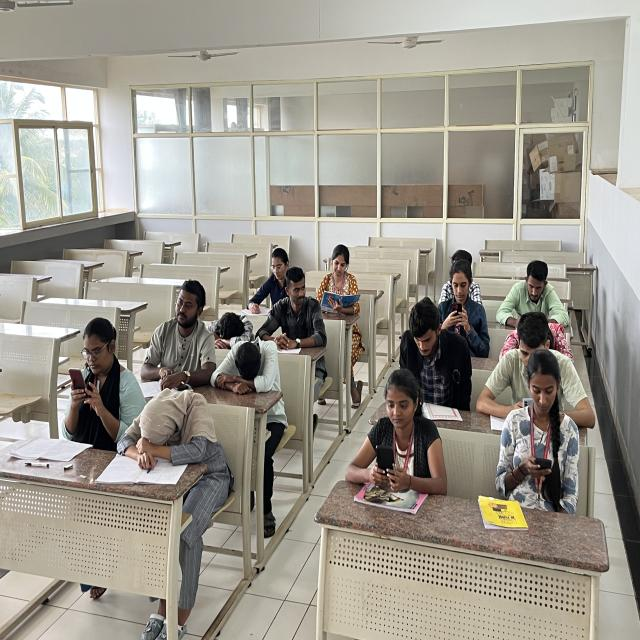Reading: (310, 245, 372, 320)
Sleeping: (115, 378, 238, 486), (210, 336, 283, 396), (212, 305, 260, 346)
Using Phone: (492, 354, 596, 498), (344, 366, 449, 487), (62, 315, 144, 438), (437, 262, 495, 342)
Writing: (240, 243, 294, 317)
